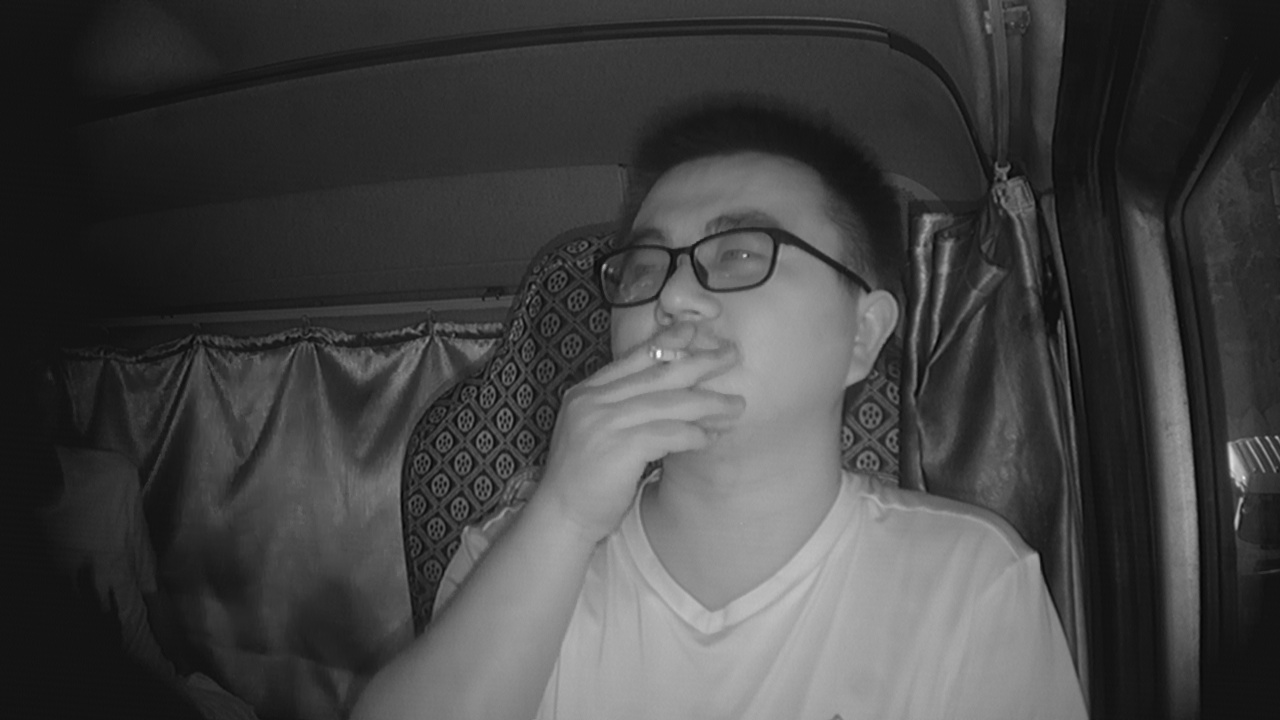hand: (590, 322, 741, 479)
